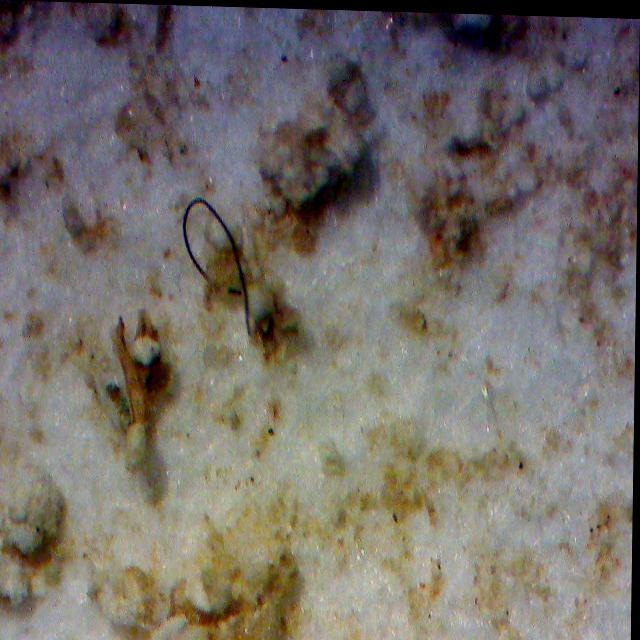microplastic: (167, 191, 282, 342)
